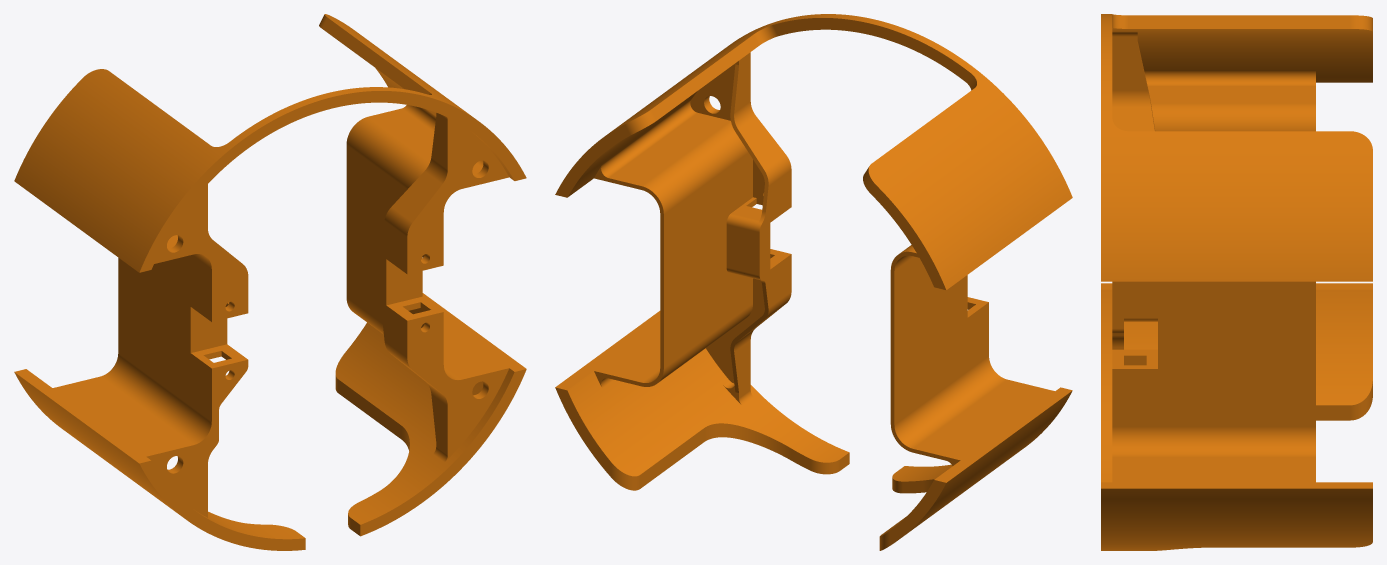
The model's file is Carcaza05.obj.
3 views of the same model, side by side, from view 1: azimuth 30°, elevation 25°; view 2: azimuth 150°, elevation 25°; view 3: azimuth 270°, elevation 25° (orthographic). The views are drawn at different scales.
Parts seen in each view (by area): view 1: Sólido1; view 2: Sólido1; view 3: Sólido1.
Part boxes in pixels (x1=…): Sólido1: x1=14, y1=14, x2=526, y2=550; Sólido1: x1=555, y1=14, x2=1072, y2=550; Sólido1: x1=1101, y1=14, x2=1372, y2=550.
Bounding box in the file's own units: 106 × 117 × 59.5.
